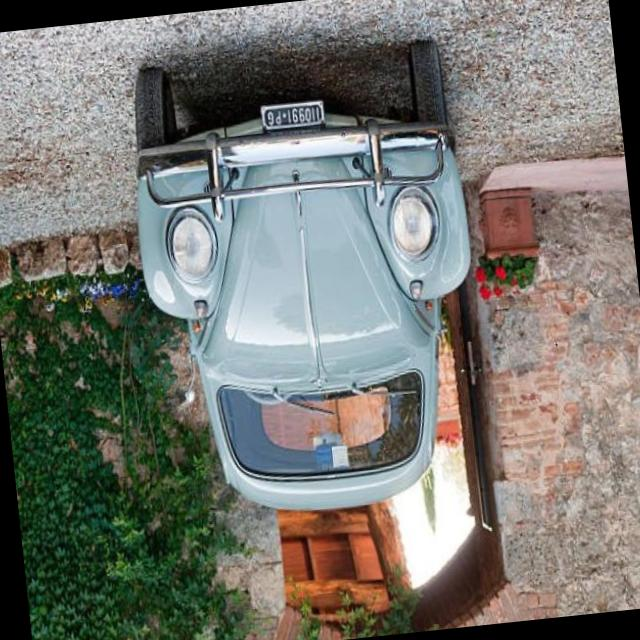car: (120, 25, 500, 529)
